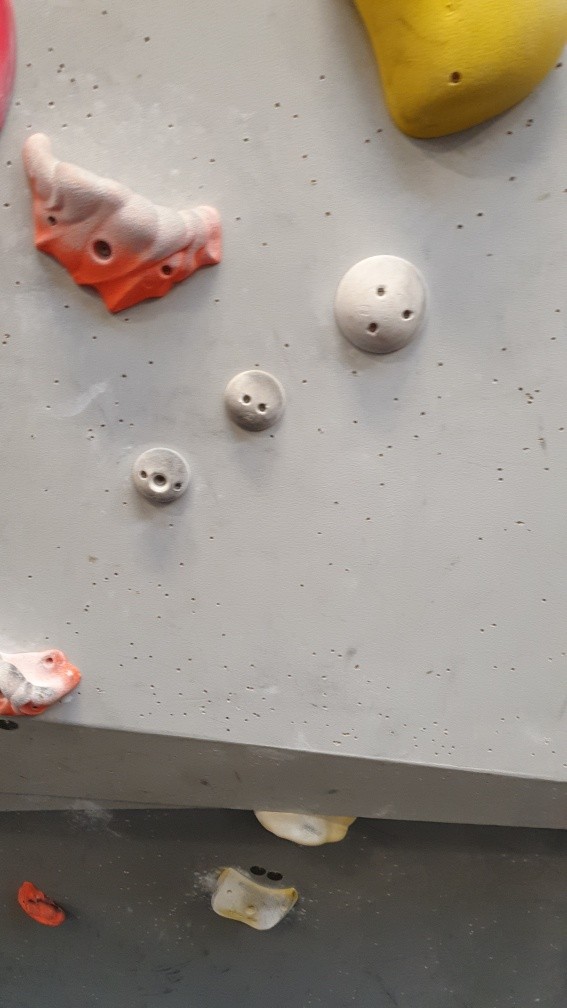Hand Start: (247, 862, 267, 879), (267, 868, 284, 885), (1, 718, 20, 732)
Jug: (21, 129, 226, 324), (13, 873, 68, 930)
Sloper: (335, 248, 431, 356), (220, 366, 289, 437), (127, 442, 196, 510)
